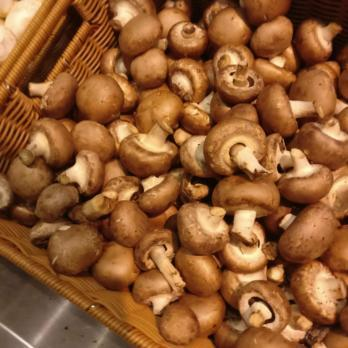Mushroom: (163, 0, 348, 348), (4, 76, 348, 225), (106, 0, 175, 80)
